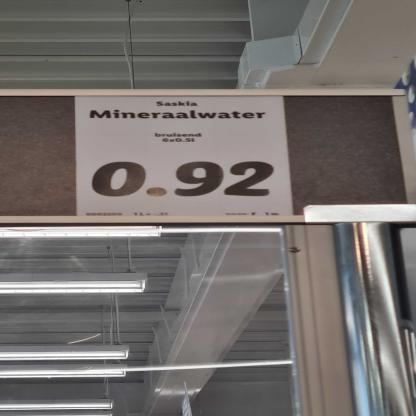prtg: (76, 97, 294, 217)
